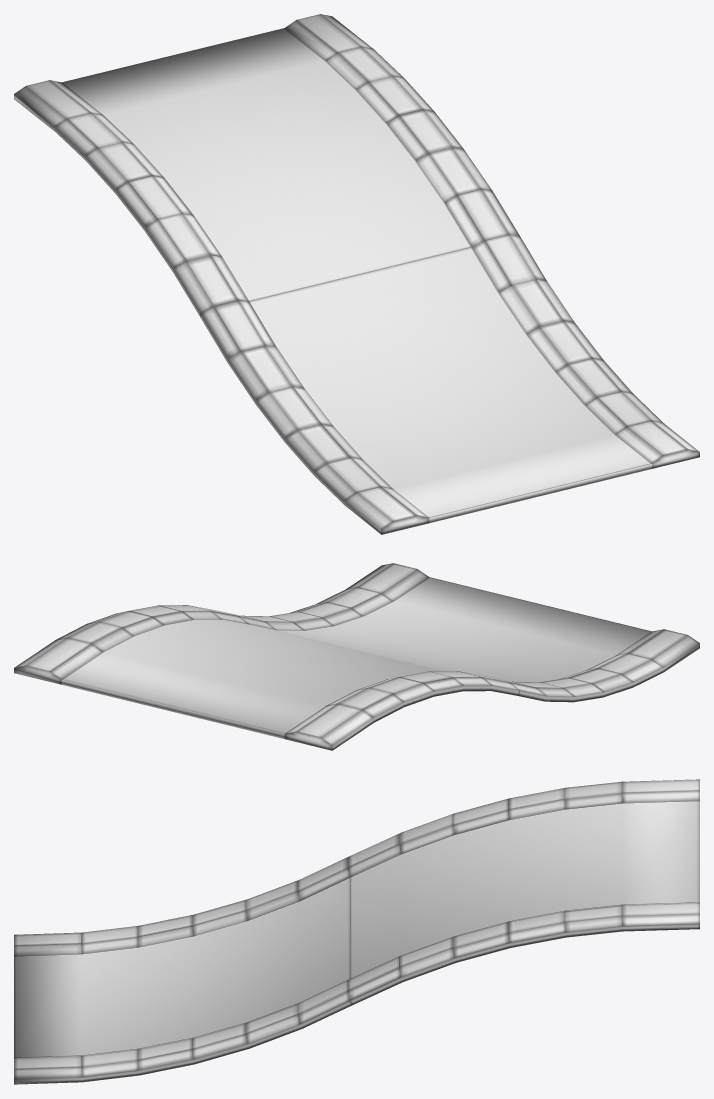
File: Track-03.fbx
3 views of the same model, one above another, from view 1: azimuth 30°, elevation 25°; view 2: azimuth 150°, elevation 25°; view 3: azimuth 270°, elevation 25° (orthographic). The views are drawn at different scales.
Visible parts, largest first — view 1: Track-03; view 2: Track-03; view 3: Track-03.
Boxes of the visible parts, bbox=[...] form: Track-03: bbox=[14, 14, 699, 534]; Track-03: bbox=[14, 563, 699, 750]; Track-03: bbox=[14, 779, 699, 1084].
Size of the model in its own units: 2 by 1.06 by 4.
